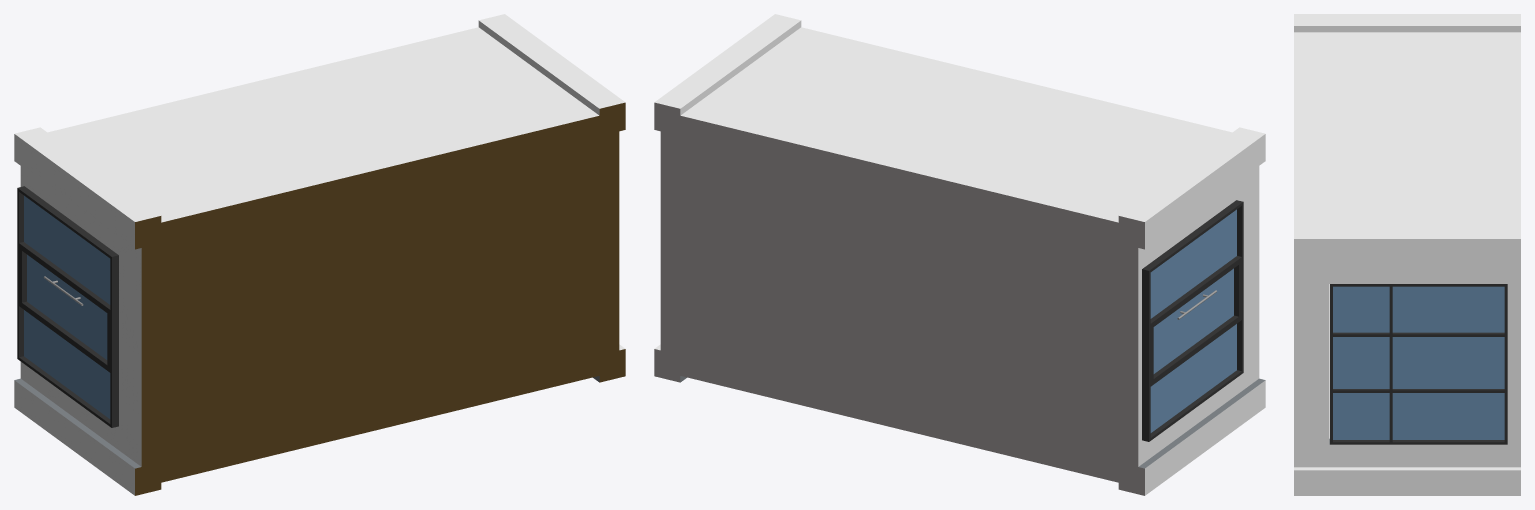
Rendered from entornoactualizado.fbx.
3 renders of one model, left to right at view 1: azimuth 30°, elevation 25°; view 2: azimuth 150°, elevation 25°; view 3: azimuth 270°, elevation 25°, orthographic. The views are drawn at different scales.
Parts seen in each view (by area): view 1: entornoactualizado; view 2: entornoactualizado; view 3: entornoactualizado.
Boxes of the visible parts, box(x1,y1,x2,y2) form: entornoactualizado: box(14, 14, 625, 495); entornoactualizado: box(654, 14, 1265, 495); entornoactualizado: box(1294, 14, 1520, 495).
Bounding box in the file's own units: 754 × 400 × 320.
